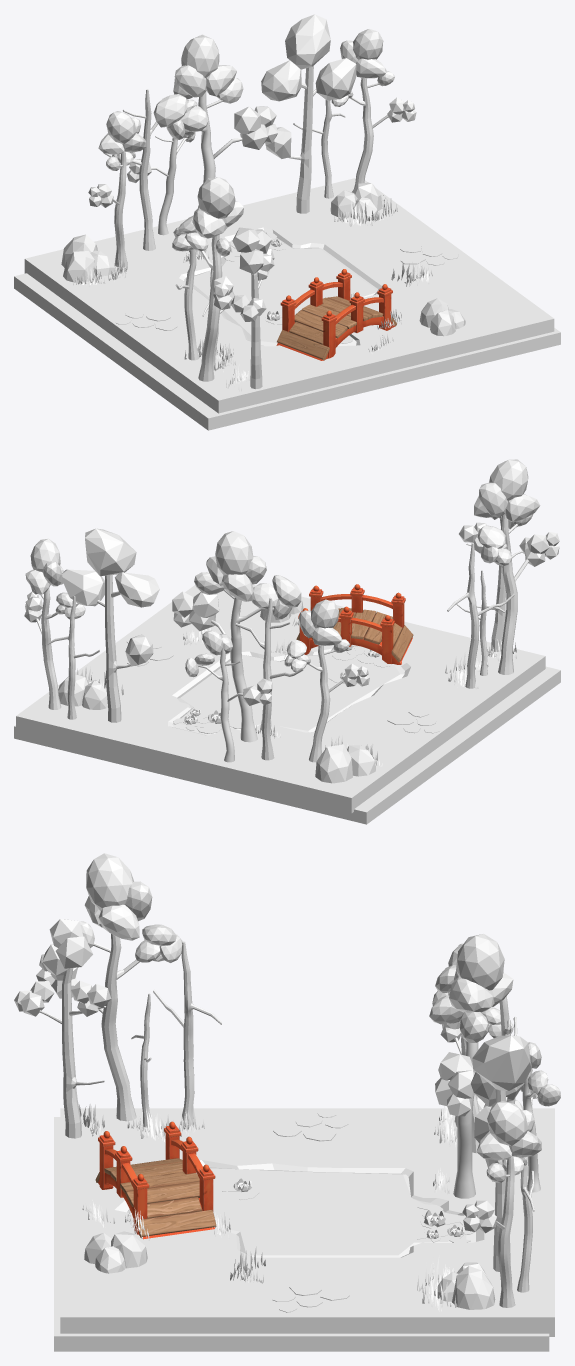
File: lowPolyScene.glb
3 renders of one model, top to bottom at view 1: azimuth 30°, elevation 25°; view 2: azimuth 150°, elevation 25°; view 3: azimuth 270°, elevation 25°, orthographic. The views are drawn at different scales.
Visible parts, largest first — view 1: Cube, Icosphere.016, Circle, Plane.003_Material.005_0, Cylinder.005, Cylinder.003, Cylinder.001, Icosphere.010, Bridge_Low, Icosphere.017, Cylinder.006, Bridge_Low1 (+7 smaller); view 2: Cube, Plane.003_Material.005_0, Icosphere.016, Circle, Cylinder.005, Cylinder.001, Cylinder.003, Icosphere.001, Icosphere.017, Bridge_Low1, Icosphere.010, Cylinder.006 (+5 smaller); view 3: Cube, Plane.003_Material.005_0, Icosphere.016, Cylinder.005, Icosphere.010, Cylinder.003, Circle, Bridge_Low, Icosphere.002, Cylinder.004, Icosphere.018, Bridge_Low1 (+8 smaller).
Part boxes in pixels (x1,y1,x2,y2): Cube: (14, 178, 560, 430); Icosphere.016: (153, 34, 277, 254); Circle: (261, 14, 356, 213); Plane.003_Material.005_0: (184, 238, 377, 346); Cylinder.005: (172, 177, 243, 381); Cylinder.003: (326, 29, 416, 188); Cylinder.001: (88, 111, 146, 267); Icosphere.010: (231, 227, 274, 389); Bridge_Low: (299, 284, 395, 360); Icosphere.017: (61, 234, 114, 282); Cylinder.006: (103, 89, 157, 250); Bridge_Low1: (276, 269, 351, 352); Cube: (14, 584, 560, 824); Plane.003_Material.005_0: (172, 646, 404, 735); Icosphere.016: (172, 531, 301, 742); Circle: (62, 528, 159, 722); Cylinder.005: (474, 459, 559, 674); Cylinder.001: (284, 599, 369, 762); Cylinder.003: (24, 538, 85, 709); Icosphere.001: (185, 630, 271, 762); Icosphere.017: (315, 744, 375, 783); Bridge_Low1: (298, 606, 406, 664); Icosphere.010: (459, 493, 545, 651); Cylinder.006: (235, 597, 303, 760); Cube: (54, 1108, 554, 1351); Plane.003_Material.005_0: (127, 1167, 475, 1257); Icosphere.016: (429, 933, 513, 1198); Cylinder.005: (36, 853, 182, 1121); Icosphere.010: (14, 919, 111, 1138); Cylinder.003: (462, 1101, 541, 1307); Circle: (470, 1035, 531, 1271); Bridge_Low: (98, 1131, 178, 1239); Icosphere.002: (84, 1231, 147, 1273); Cylinder.004: (153, 941, 221, 1126); Icosphere.018: (434, 1262, 495, 1309); Bridge_Low1: (164, 1121, 215, 1233).
Size of the model in its own units: 22.72 by 13.62 by 22.73.
Materials: 19 (9 with a texture image).
